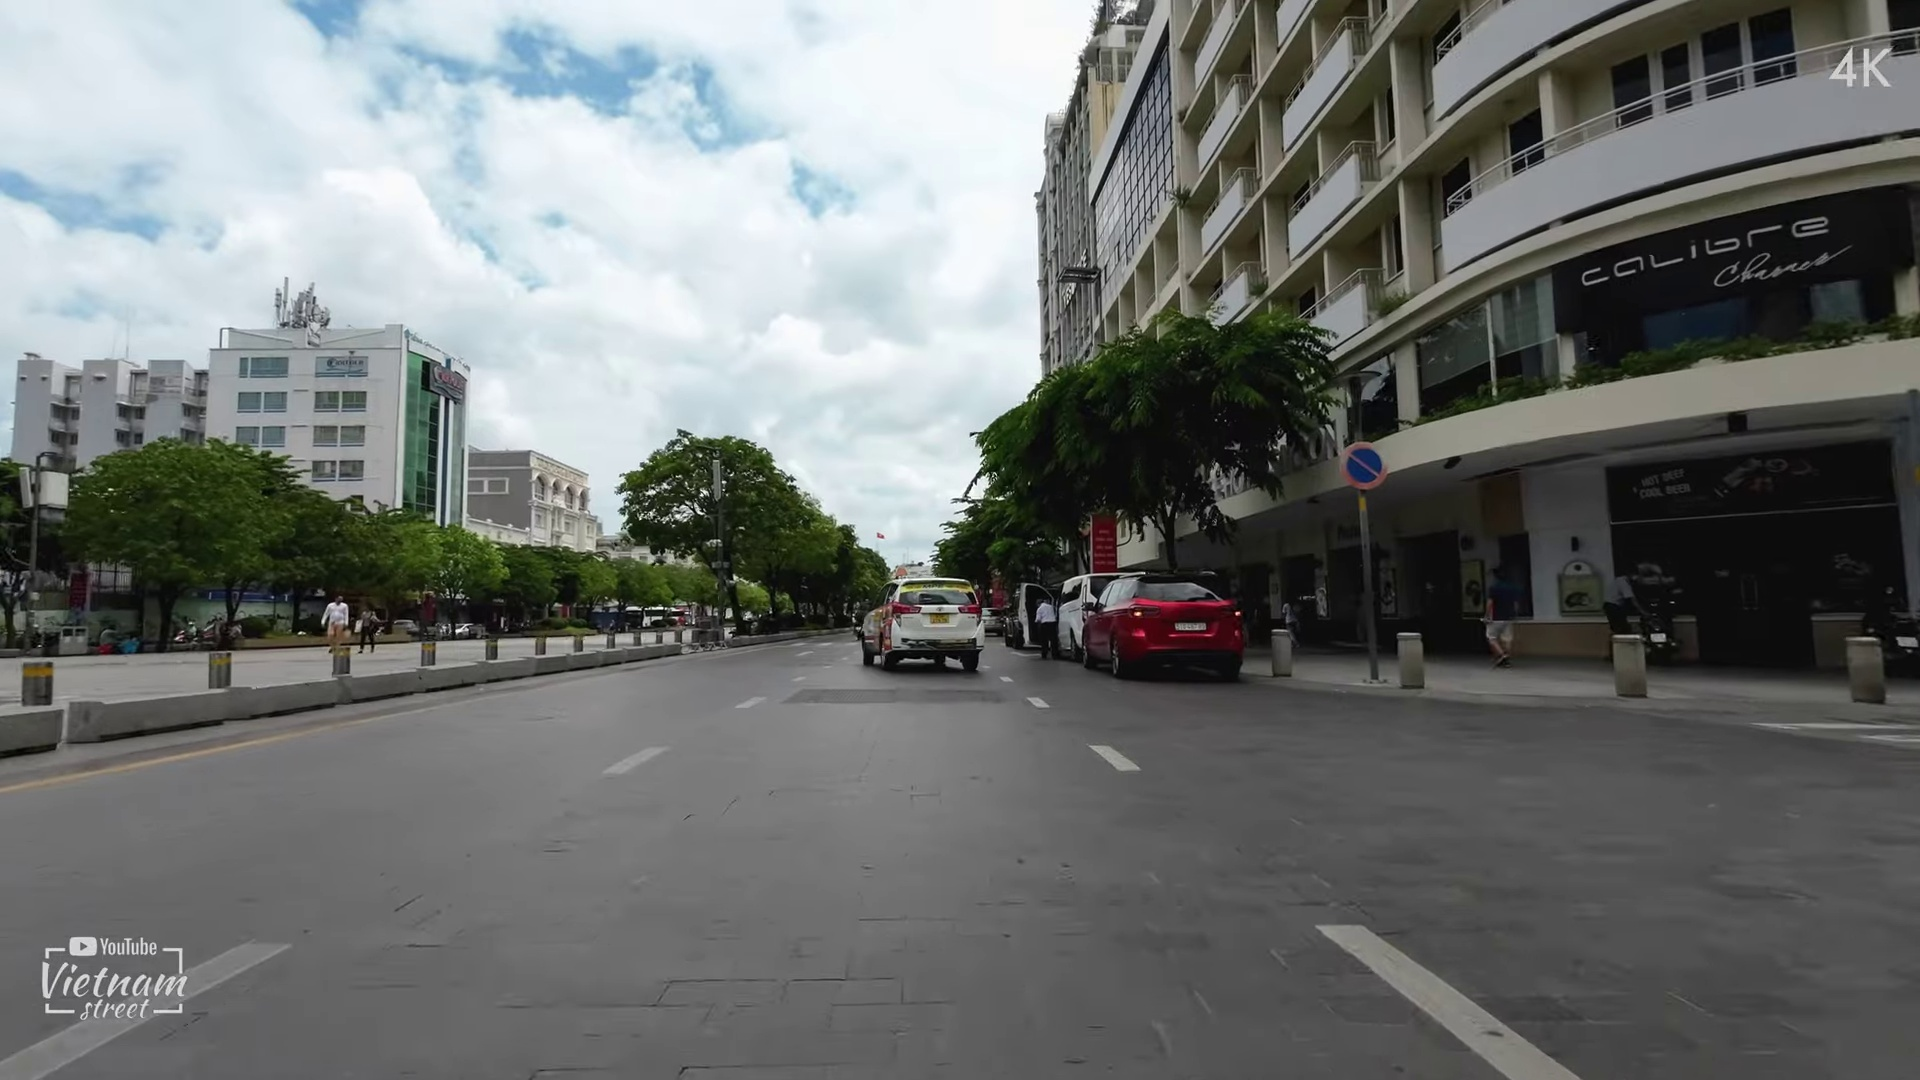cam_do_xe: (1335, 436, 1393, 491)
